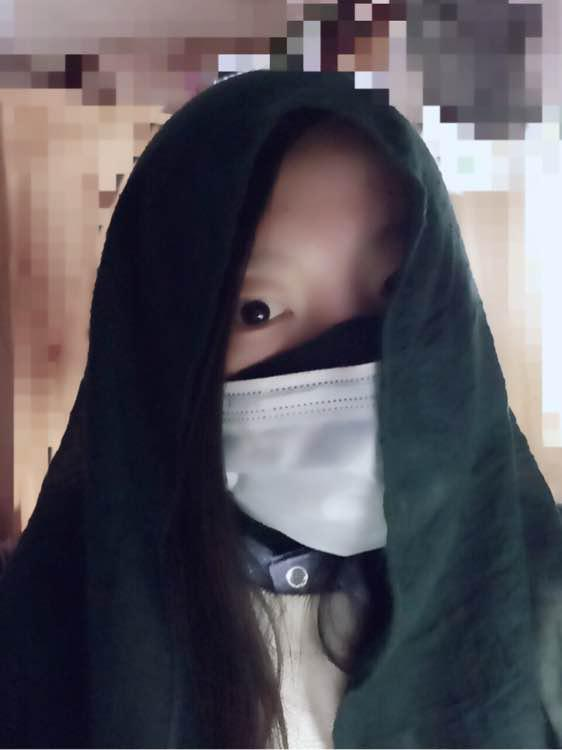WRONG: (149, 232, 459, 542)
